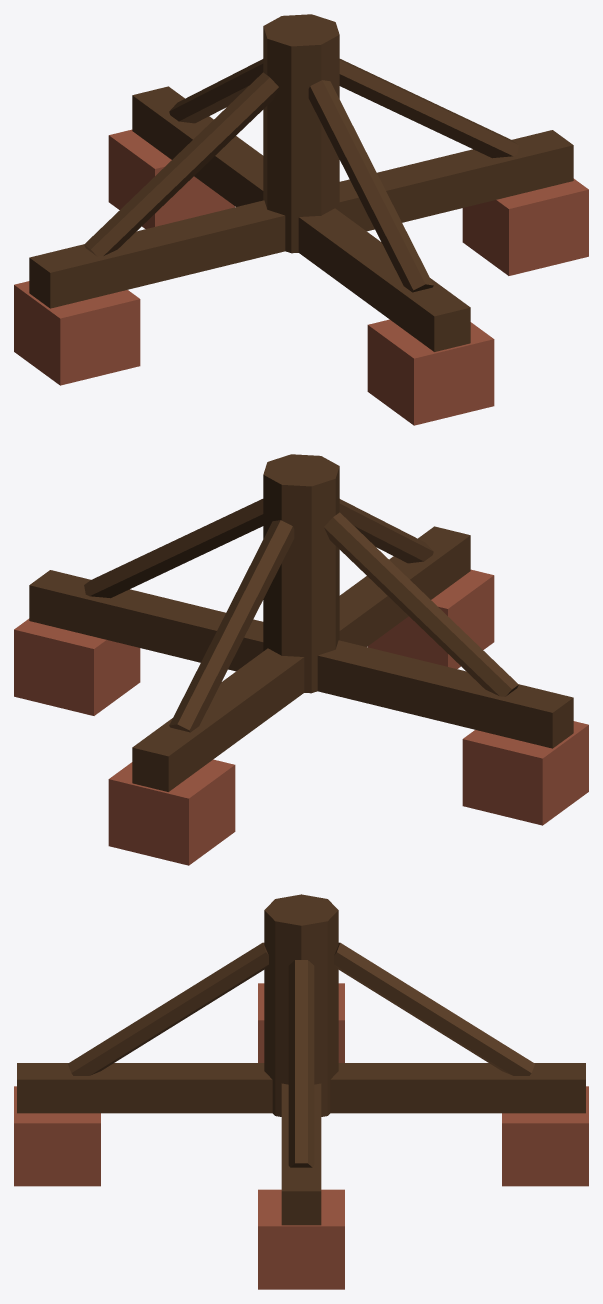
Rendered from post_mill_trestle.glb.
3 views of the same model, one above another, from view 1: azimuth 30°, elevation 25°; view 2: azimuth 150°, elevation 25°; view 3: azimuth 270°, elevation 25° (orthographic). The views are drawn at different scales.
Parts seen in each view (by area): view 1: trestle; view 2: trestle; view 3: trestle.
Part boxes in pixels (x1,y1,x2,y2): trestle: (14,14,588,425); trestle: (14,454,588,865); trestle: (14,894,588,1289).
Size of the model in its own units: 4.95 by 2.45 by 4.95.
